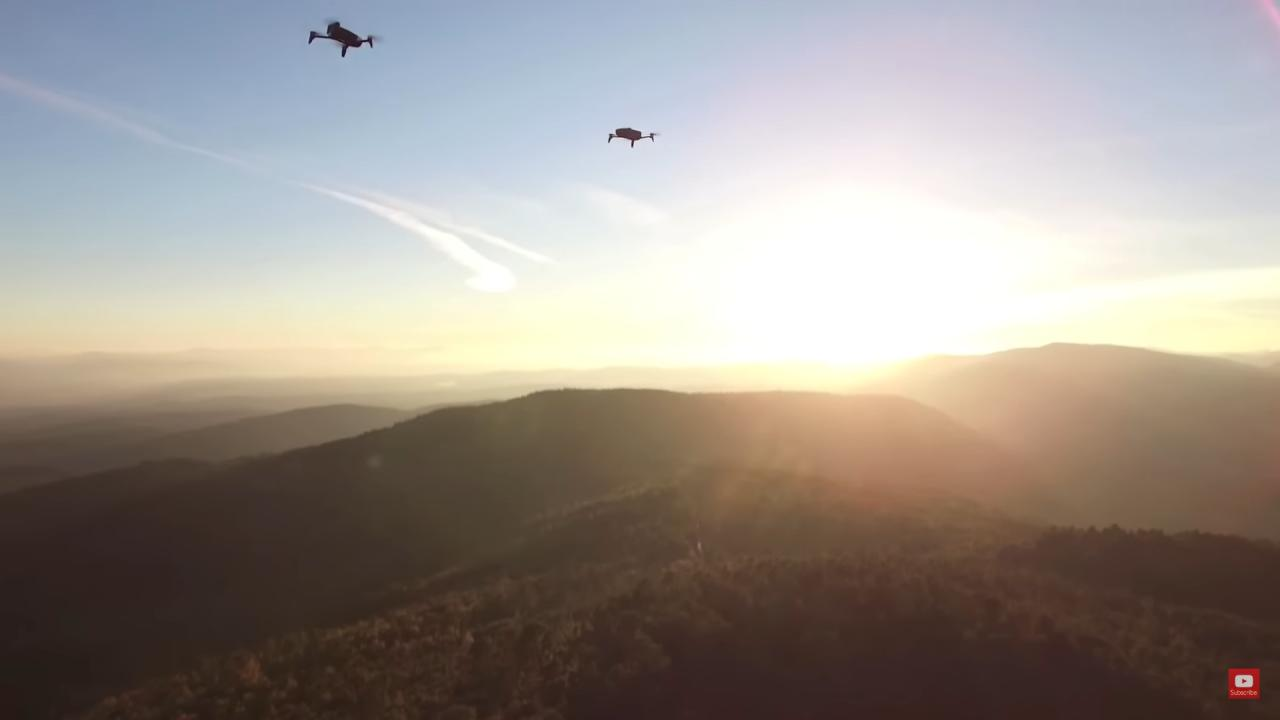Drone: (302, 8, 387, 64), (600, 118, 660, 151)
